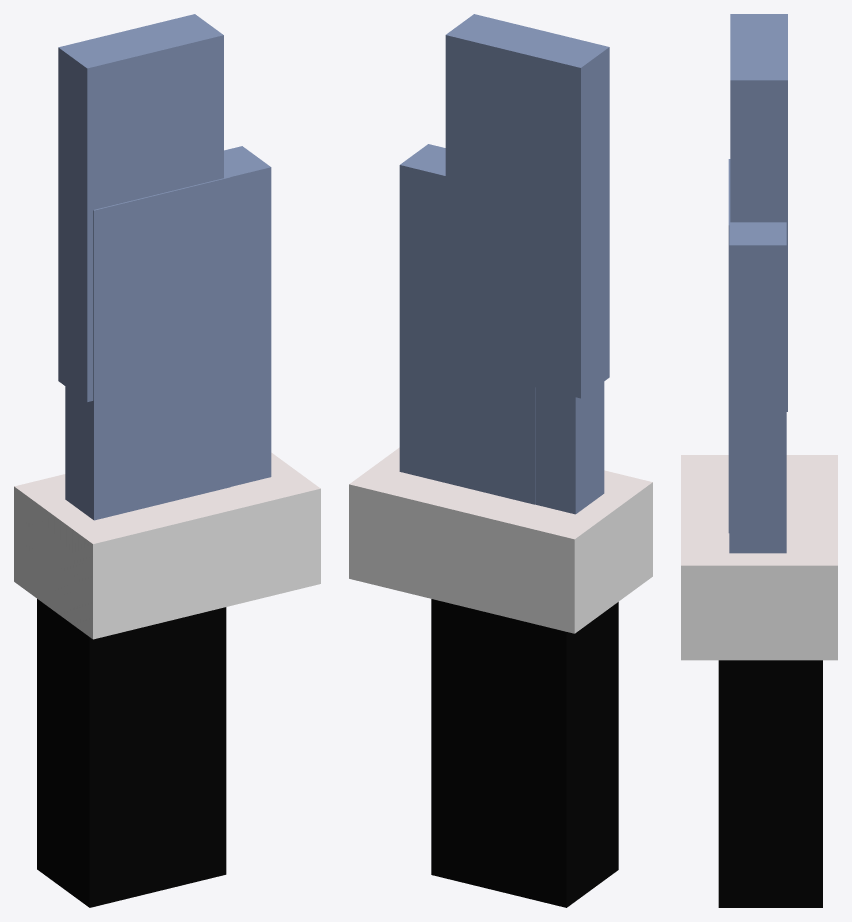
The picture shows the model from 3 angles, left to right: view 1: azimuth 30°, elevation 25°; view 2: azimuth 150°, elevation 25°; view 3: azimuth 270°, elevation 25°; orthographic projection.
Size of the model in its own units: 0.5 by 1.75 by 0.3.
